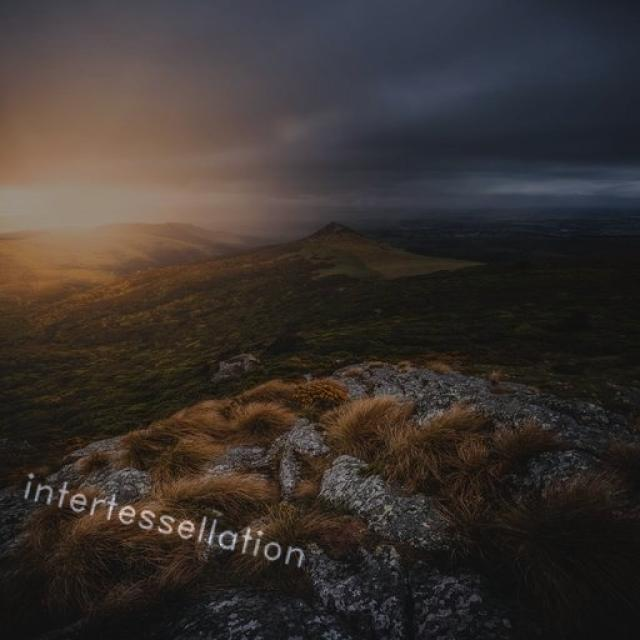watermark: (11, 469, 330, 574)
